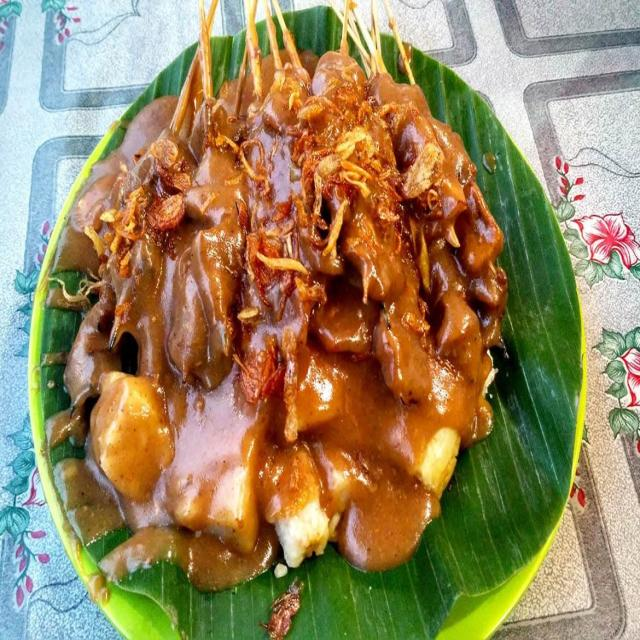Sate: (124, 6, 512, 570)
